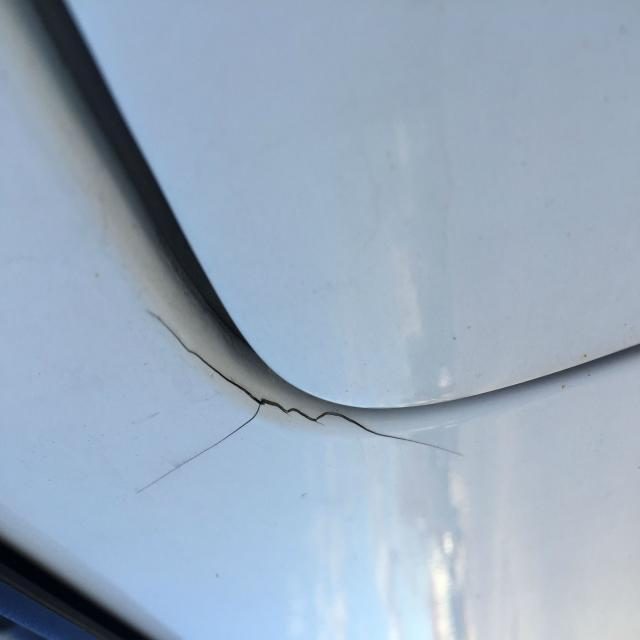crack: (142, 312, 481, 514)
